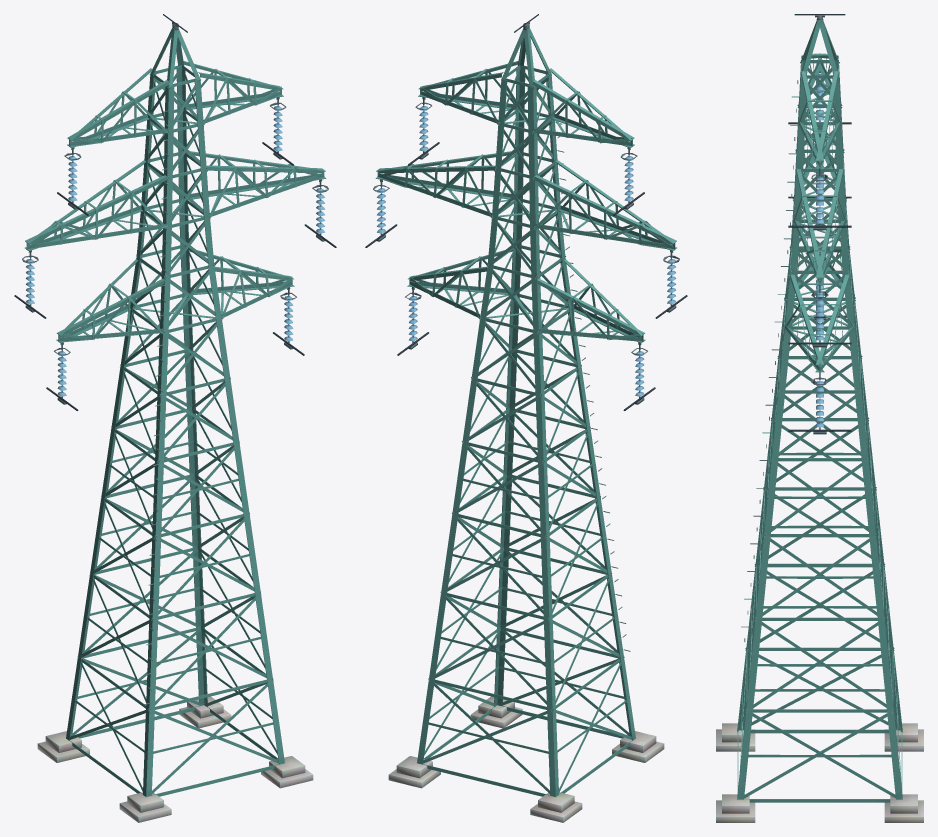
The model's file is power-line.glb.
3 renders of one model, left to right at view 1: azimuth 30°, elevation 25°; view 2: azimuth 150°, elevation 25°; view 3: azimuth 270°, elevation 25°, orthographic. The views are drawn at different scales.
Parts seen in each view (by area): view 1: power-line-tower_body; view 2: power-line-tower_body; view 3: power-line-tower_body.
Part boxes in pixels (box(x1,y1,x2,y2)): power-line-tower_body: box(14, 14, 336, 822); power-line-tower_body: box(365, 14, 687, 822); power-line-tower_body: box(716, 14, 923, 822).
Bounding box in the file's own units: 8.61 × 20.04 × 4.93.
Materials: 1 (1 with a texture image).
